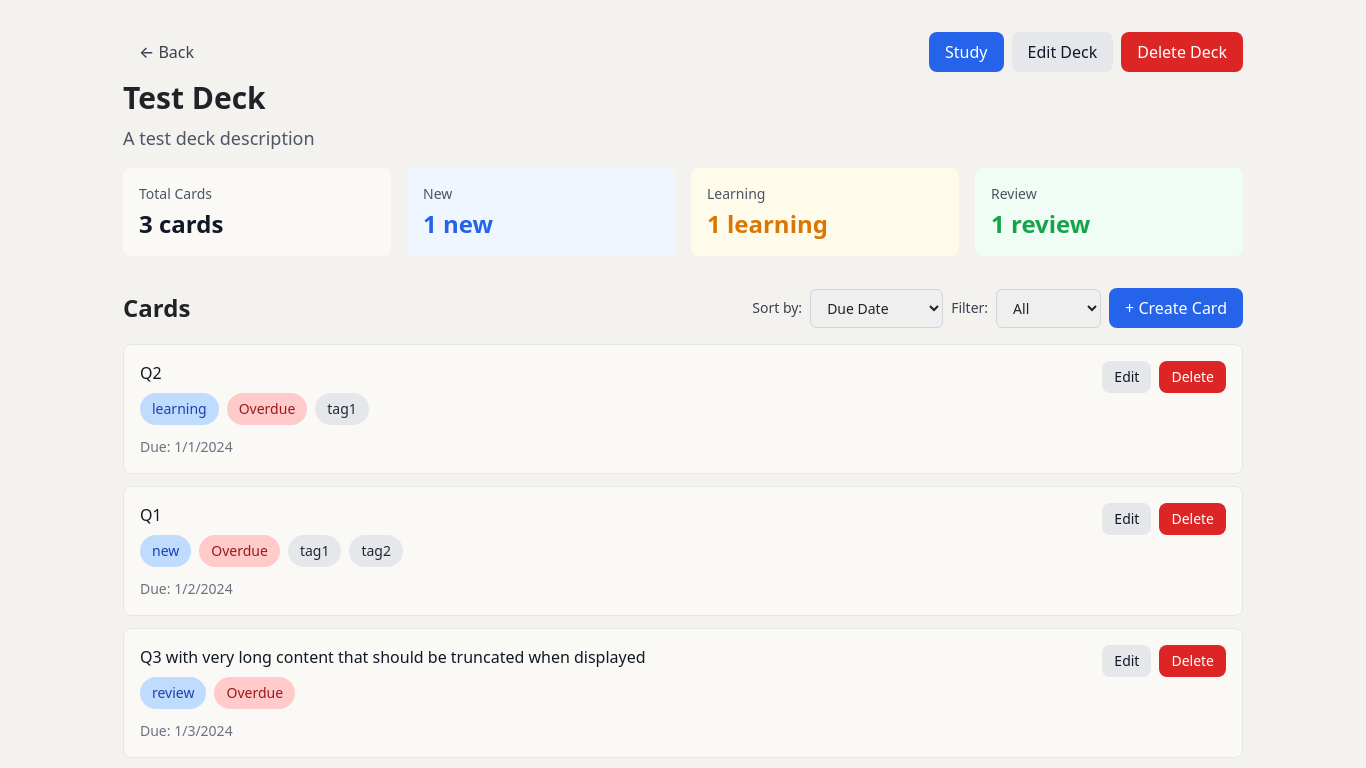
Scenario: DeckDetailPage › deck header section › has delete button with confirmation dialog
The image size is (1366, 768).
Click the button "Delete Deck" at (1182, 52), box [1121,32,1243,72]
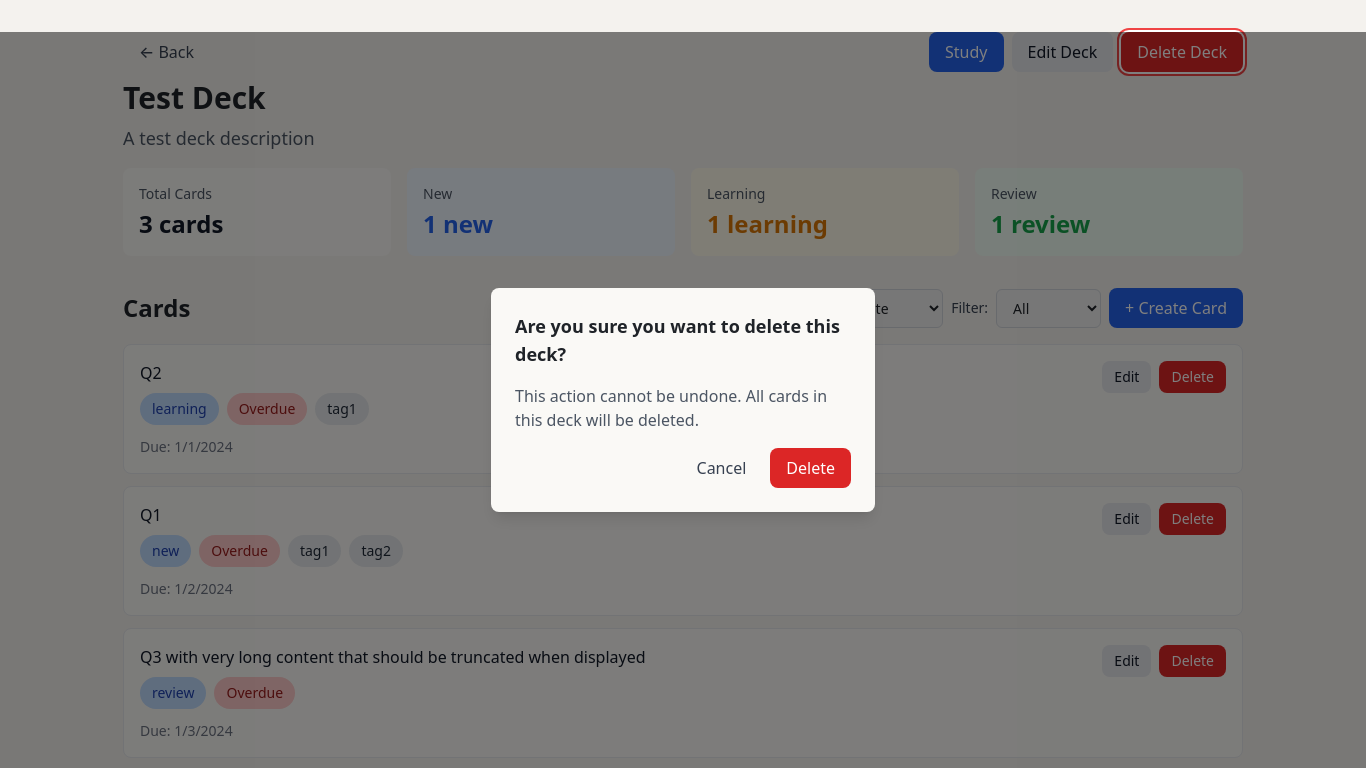
Result: the heading "Are you sure you want to delete this deck?" is shown at [515,312,851,368]
